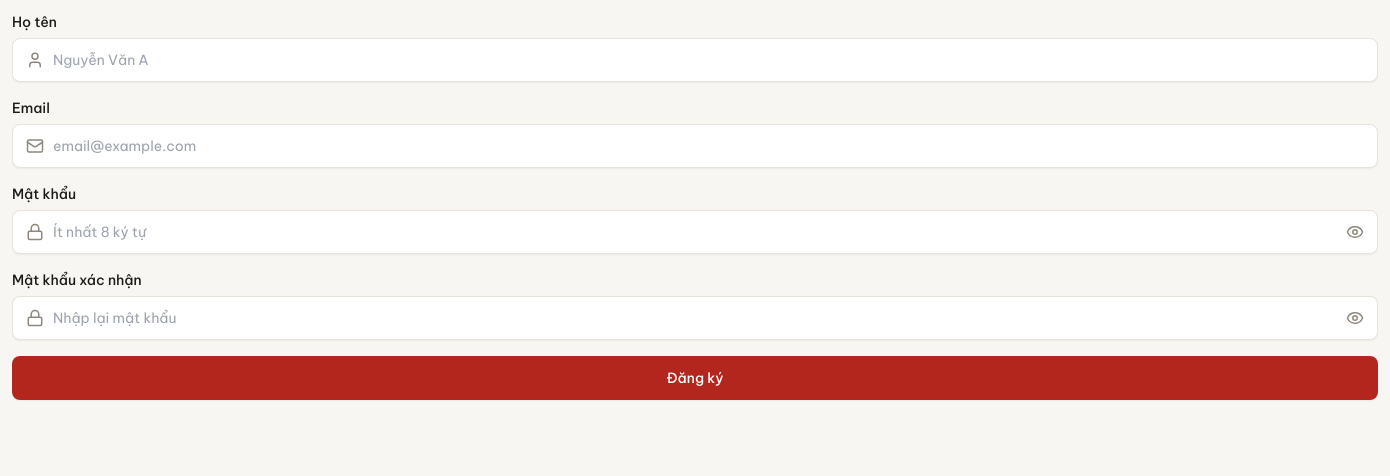
Test: RegisterForm › mật khẩu xác nhận không khớp -> báo lỗi, KHÔNG gọi API
Type "Người Mới" into the field labelled "Họ tên".
click(695, 60); type("Người Mới")  # box [12,38,1378,82]
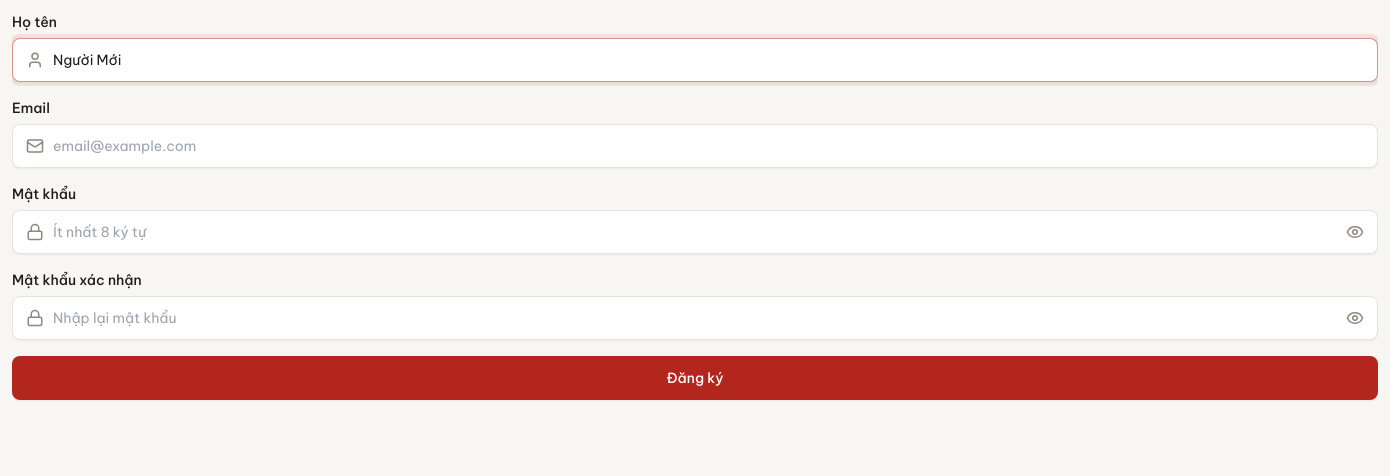
Type "moi@example.com" into the field labelled "Email".
click(695, 146); type("moi@example.com")  # box [12,124,1378,168]
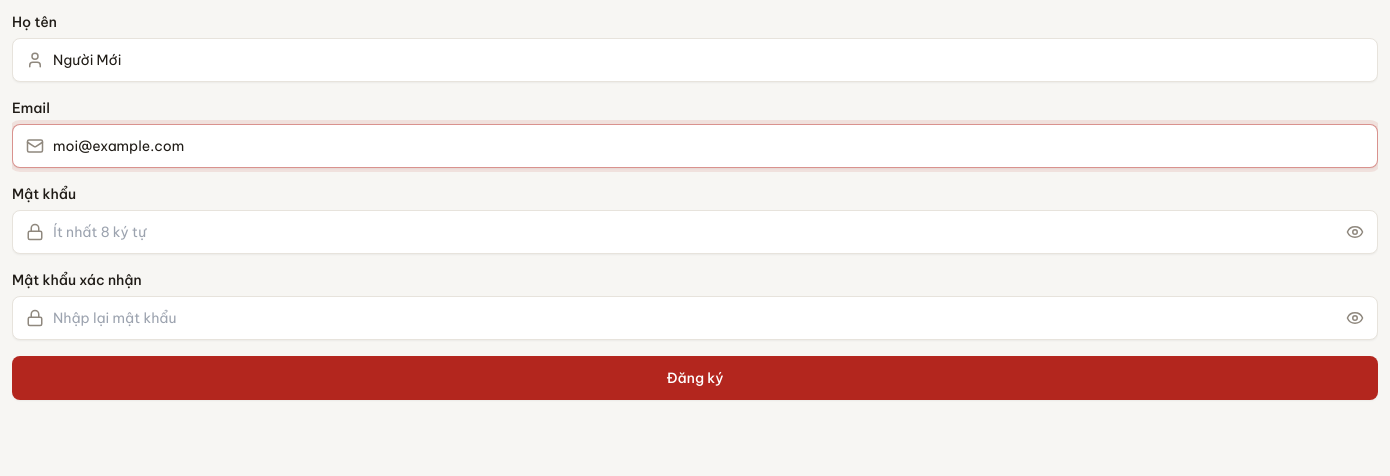
Type "secret123" into the password field labelled "Mật khẩu".
click(695, 232); type("secret123")  # box [12,210,1378,254]
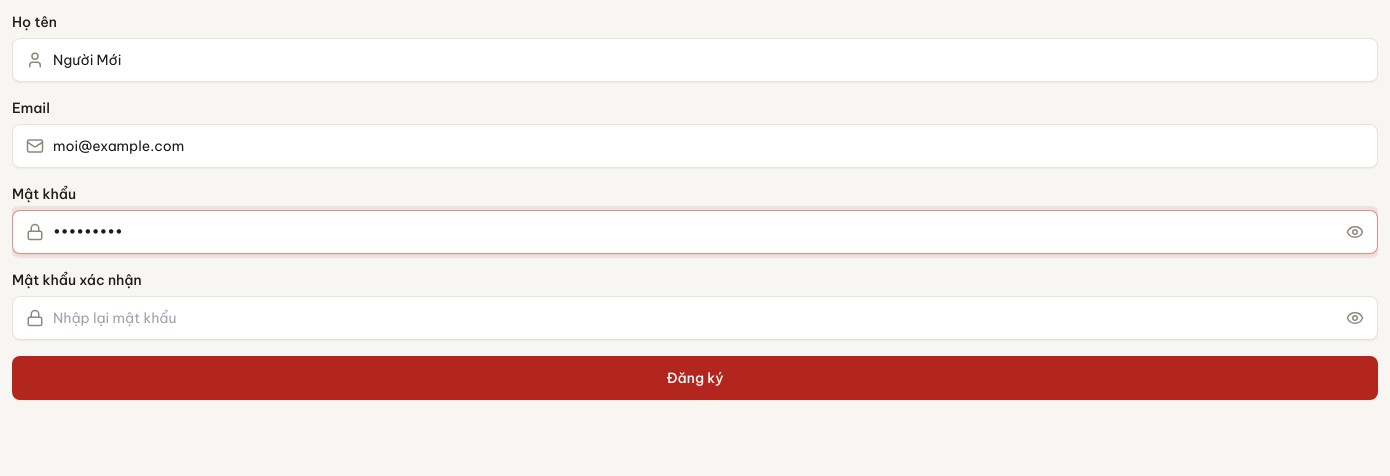
Type "secret999" into the password field labelled "Mật khẩu xác nhận".
click(695, 318); type("secret999")  # box [12,296,1378,340]
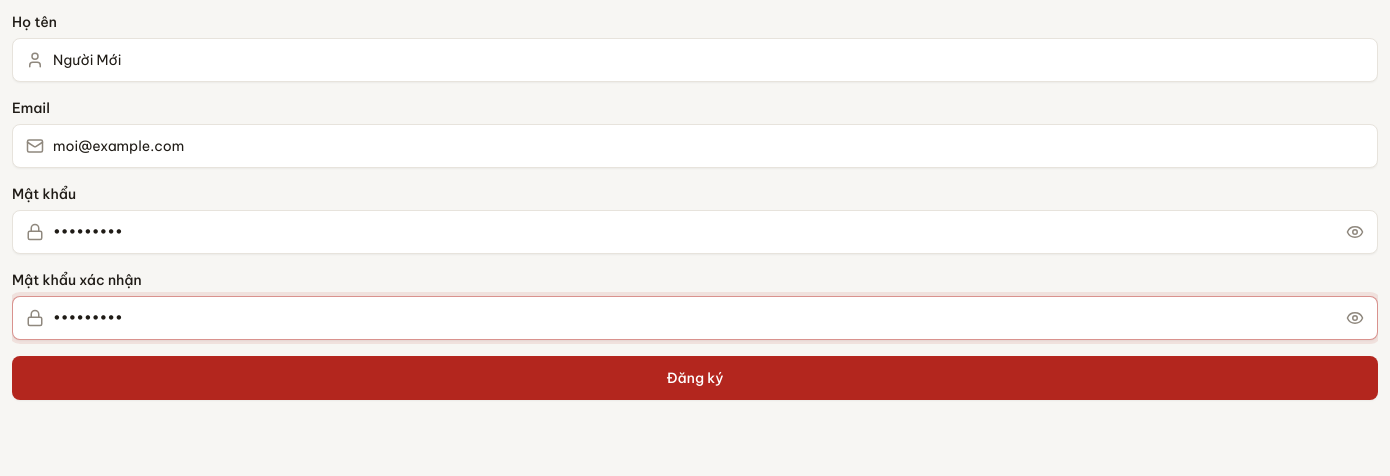
Click the button "Đăng ký".
click(695, 378)  # box [12,356,1378,400]
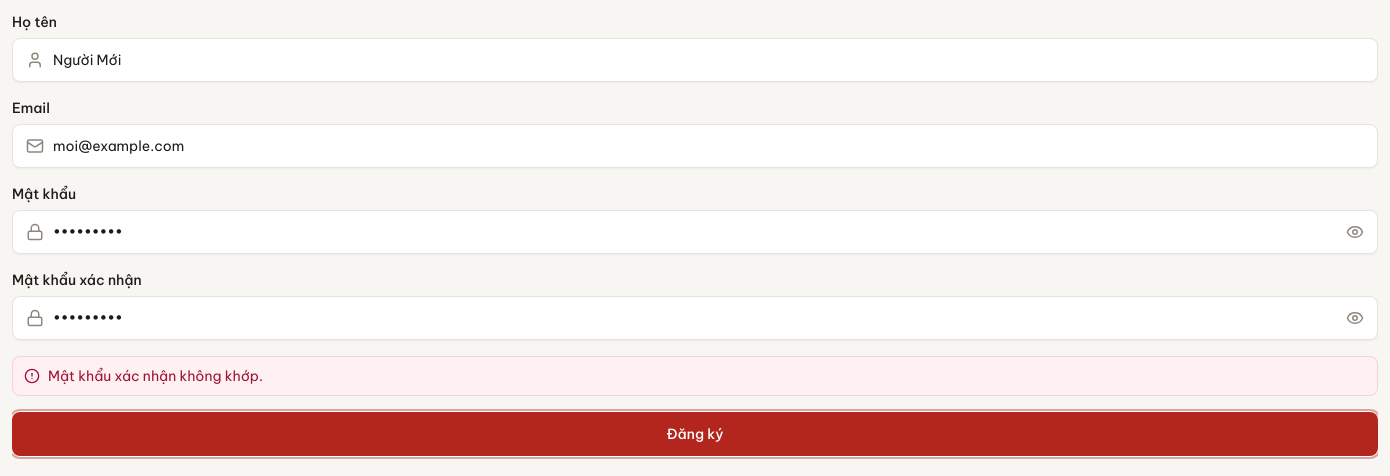
Expected: the message reads "Mật khẩu xác nhận không khớp.", [48,367,263,385]
